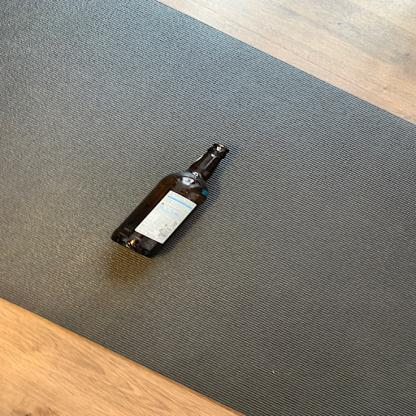trash: (105, 138, 233, 261)
